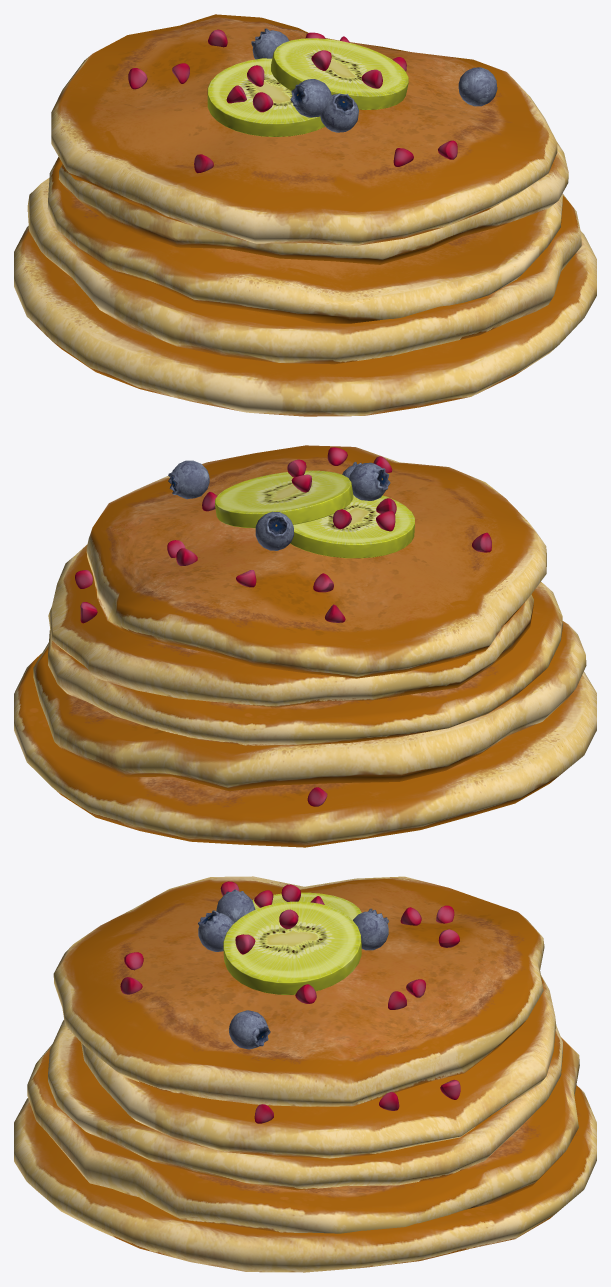
File: pancake.glb
The picture shows the model from 3 angles, top to bottom: view 1: azimuth 30°, elevation 25°; view 2: azimuth 150°, elevation 25°; view 3: azimuth 270°, elevation 25°; orthographic projection.
Parts seen in each view (by area): view 1: pancake; view 2: pancake; view 3: pancake.
Boxes of the visible parts, x1,y1,x2,y2 form: pancake: (14, 14, 596, 416); pancake: (14, 445, 596, 847); pancake: (14, 876, 596, 1272).
Bounding box in the file's own units: 68.4 × 34.12 × 68.03.
1 material, 1 textured.
